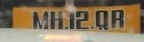character: (32, 10, 49, 29), (95, 9, 109, 31), (111, 8, 124, 29), (49, 10, 63, 29), (75, 10, 88, 30), (66, 10, 74, 29)
